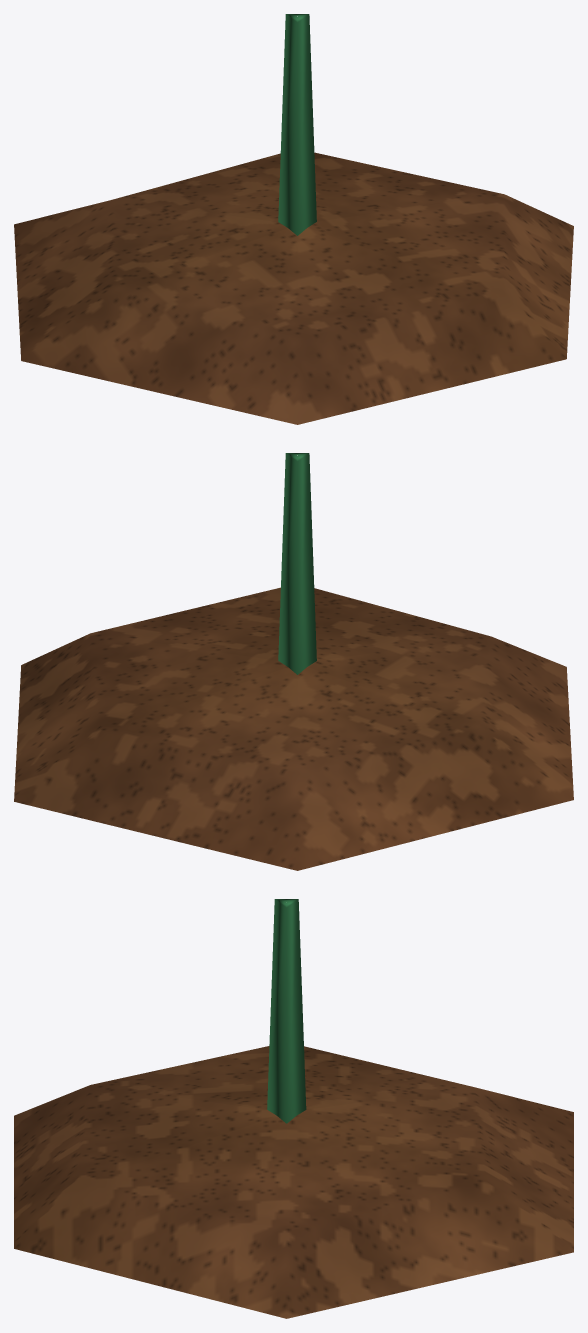
The model's file is plant-blueberry-3-far.glb.
3 renders of one model, top to bottom at view 1: azimuth 30°, elevation 25°; view 2: azimuth 150°, elevation 25°; view 3: azimuth 270°, elevation 25°, orthographic.
Visible parts, largest first — view 1: plant-blueberry-3-far; view 2: plant-blueberry-3-far; view 3: plant-blueberry-3-far.
Boxes of the visible parts, x1=… form: plant-blueberry-3-far: x1=14, y1=14, x2=573, y2=424; plant-blueberry-3-far: x1=14, y1=453, x2=573, y2=870; plant-blueberry-3-far: x1=14, y1=899, x2=573, y2=1318.
Size of the model in its own units: 0.84 by 0.4017 by 0.7275.
3 materials, 1 textured.
